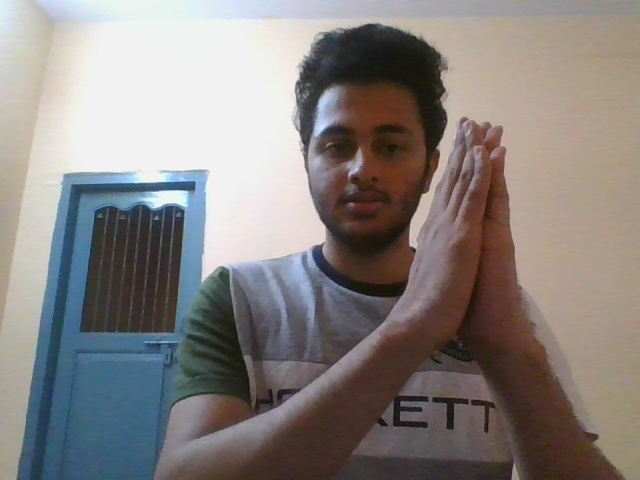Namaskara: (400, 115, 534, 362)
